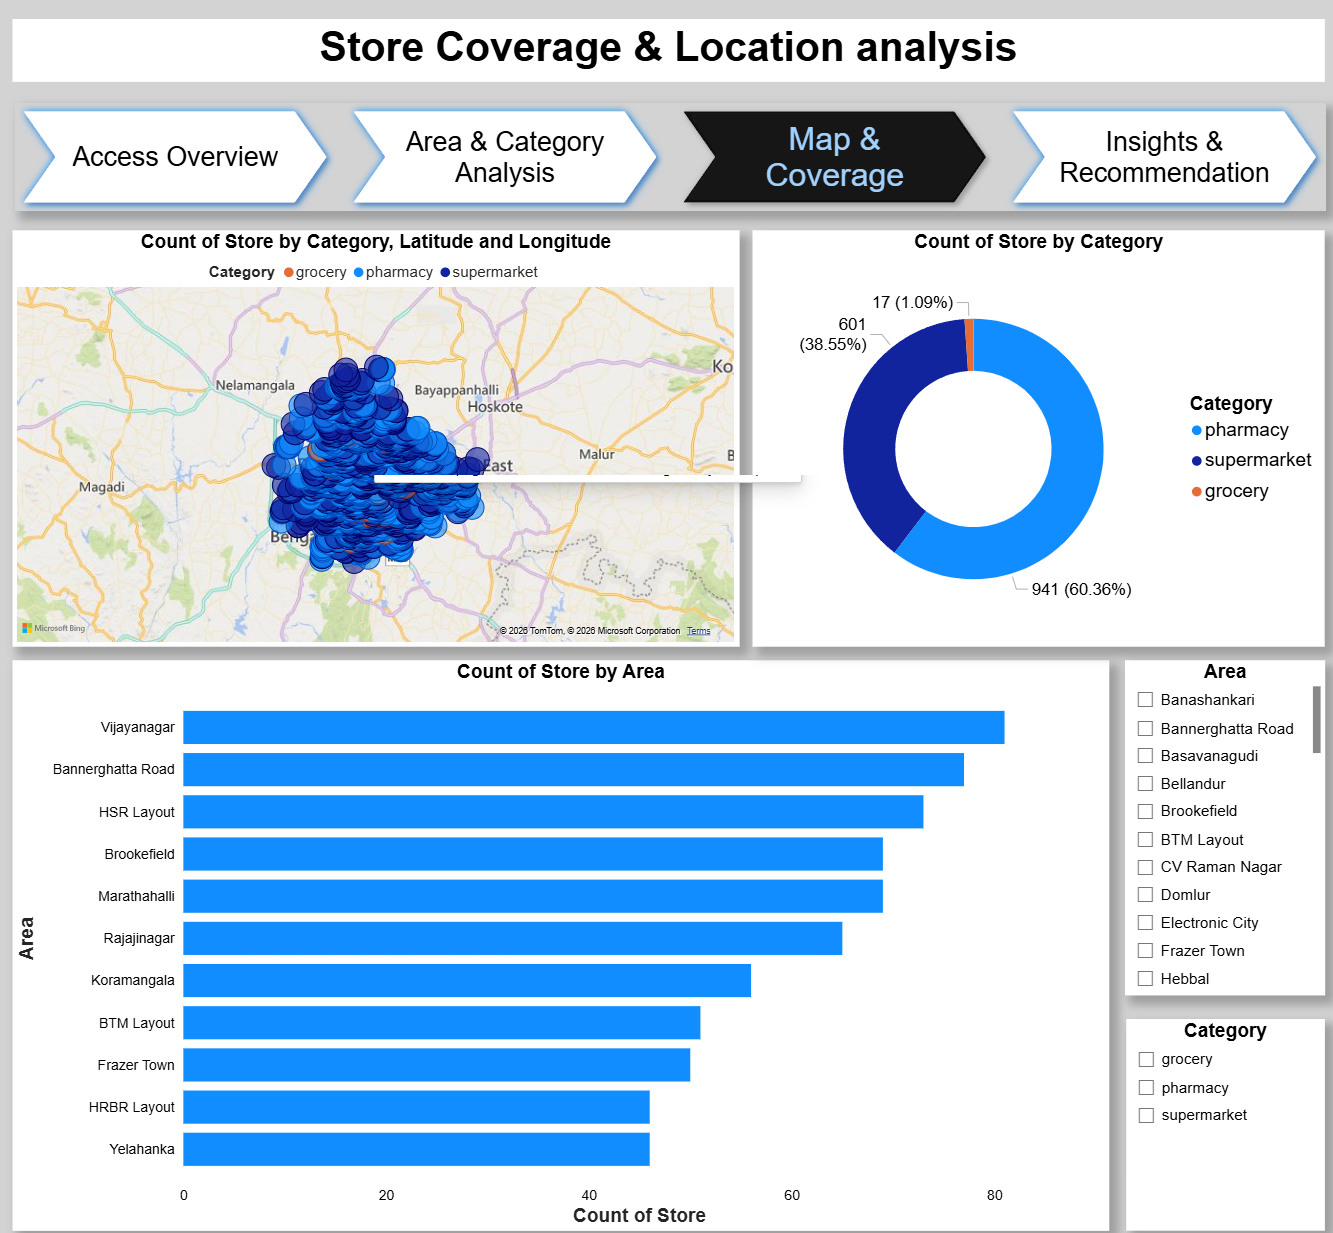

This screenshot's page, from the dashboard's own definition file:
{"tool":"powerbi","page":{"name":"Map & Coverage","canvas":[1400,1300],"ordinal":2},"visuals":[{"type":"textbox","box":[12.1,0,1369.3,70.4],"z":0},{"type":"map","fields":{"Y":["Bengaluru_Data.Latitude"],"X":["Bengaluru_Data.Longitude"],"Series":["Bengaluru_Data.Category"],"Size":["Bengaluru_Data.Count of Store"]},"box":[16.3,227.7,758,434.3],"z":1000},{"type":"clusteredBarChart","fields":{"Category":["Bengaluru_Data.Area"],"Y":["Bengaluru_Data.Count of Store"]},"box":[16.3,676.1,1144.1,595.2],"z":2000},{"type":"donutChart","fields":{"Category":["Bengaluru_Data.Category"],"Y":["Bengaluru_Data.Count of Store"]},"box":[788.4,227.7,597.2,434.3],"z":3000},{"type":"slicer","title":"Area","fields":{"Values":["Bengaluru_Data.Area"]},"box":[1176.5,676.1,209.1,349.9],"z":4000},{"type":"slicer","title":"Category","fields":{"Values":["Bengaluru_Data.Category"]},"box":[1178.5,1050.1,207.1,221.2],"z":5000},{"type":"pageNavigator","box":[19.1,95,1367.3,113.1],"z":5001}]}

Visuals, with their boxes in screenshot pixels (x1, y1, x2, y2), scaled from the page's 1400x1300 canvas onto the 1333x1233 screenshot:
textbox: Rect(12, 0, 1315, 67)
map - Bengaluru_Data.Latitude x Bengaluru_Data.Longitude: Rect(16, 216, 737, 628)
clusteredBarChart - Bengaluru_Data.Area x Bengaluru_Data.Count of Store: Rect(16, 641, 1105, 1206)
donutChart - Bengaluru_Data.Category x Bengaluru_Data.Count of Store: Rect(751, 216, 1319, 628)
"Area" slicer: Rect(1120, 641, 1319, 973)
"Category" slicer: Rect(1122, 996, 1319, 1206)
pageNavigator: Rect(18, 90, 1320, 197)
